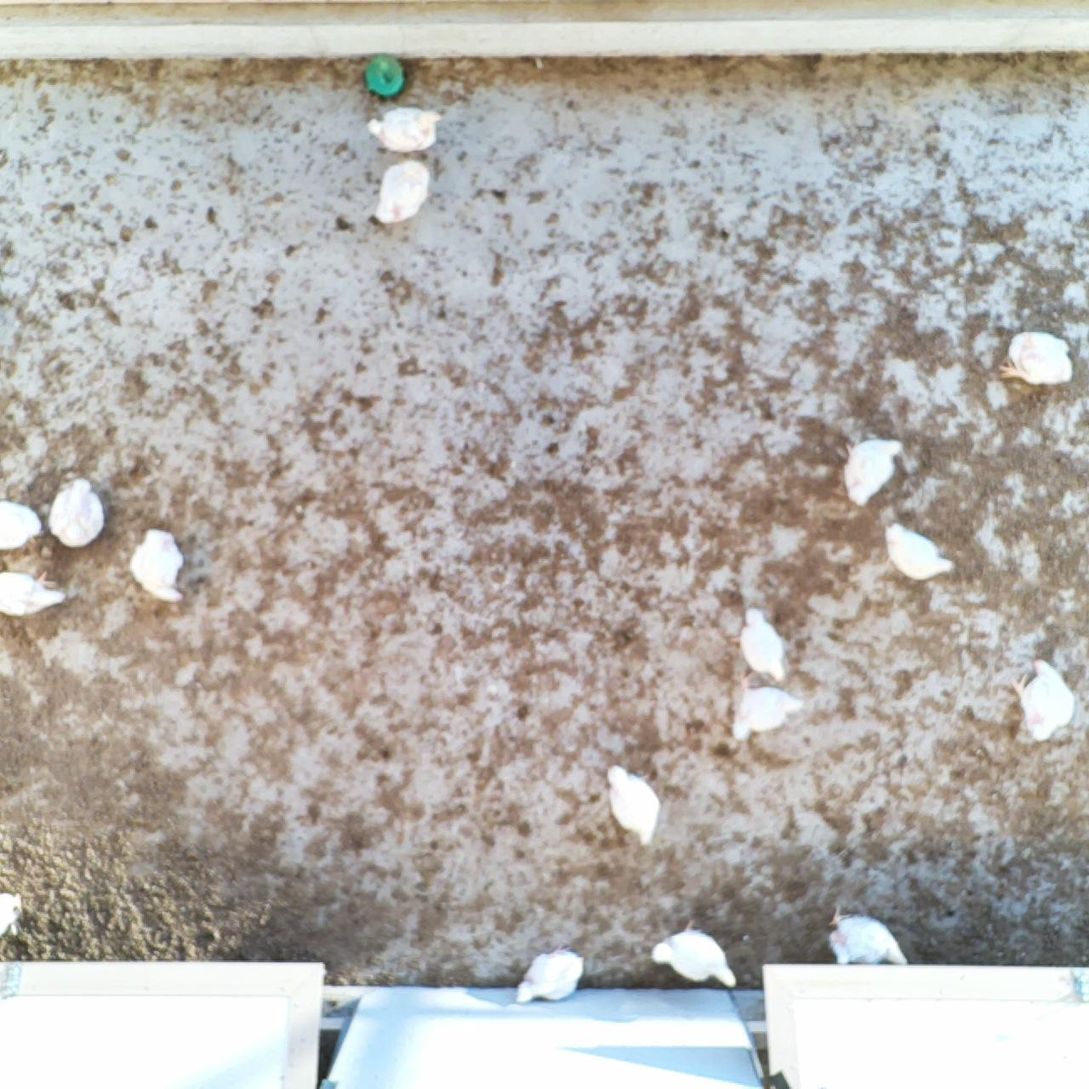chicken: (643, 915, 736, 991), (1007, 651, 1079, 745), (826, 904, 915, 970), (602, 761, 666, 849), (511, 940, 591, 1010), (995, 327, 1077, 393), (125, 523, 190, 606), (730, 678, 807, 748), (837, 436, 907, 511), (883, 517, 960, 583), (47, 477, 108, 553), (371, 157, 435, 229), (739, 605, 794, 688), (363, 101, 442, 155), (0, 567, 70, 620), (0, 496, 44, 556)
